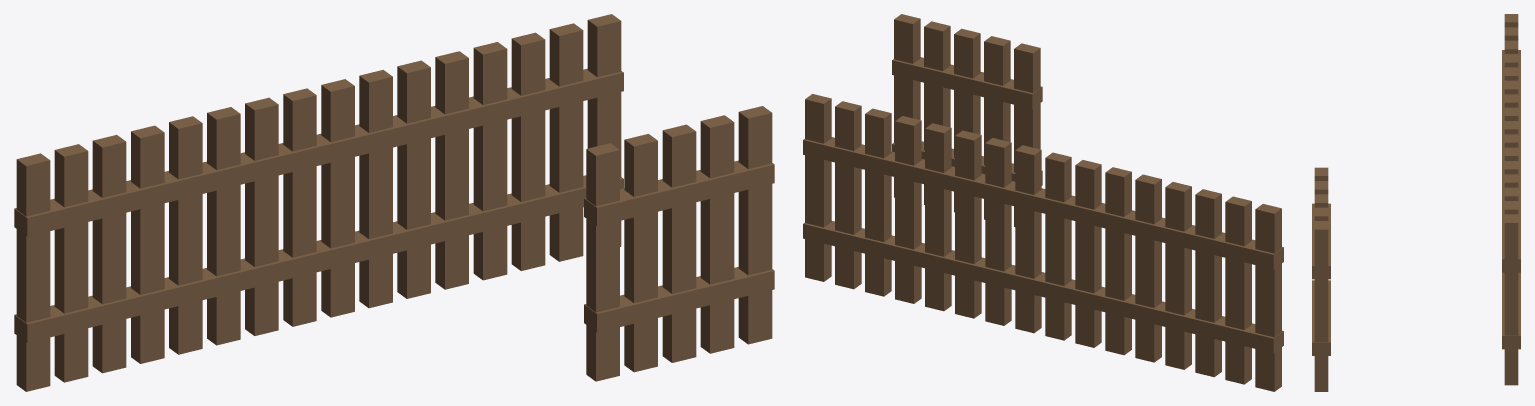
3 renders of one model, left to right at view 1: azimuth 30°, elevation 25°; view 2: azimuth 150°, elevation 25°; view 3: azimuth 270°, elevation 25°, orthographic. The views are drawn at different scales.
Parts seen in each view (by area): view 1: climb-fence-1-17, climb-fence-1-16, climb-fence-1-0, climb-fence-1-14, climb-fence-1-21, climb-fence-1-1, climb-fence-1-12, climb-fence-1-20, climb-fence-1-13, climb-fence-1-22, climb-fence-1-2, climb-fence-1-18 (+13 smaller); view 2: climb-fence-1-16, climb-fence-1-17, climb-fence-1-0, climb-fence-1-5, climb-fence-1-1, climb-fence-1-4, climb-fence-1-8, climb-fence-1-2, climb-fence-1-12, climb-fence-1-15, climb-fence-1-11, climb-fence-1-3 (+12 smaller); view 3: climb-fence-1-15, climb-fence-1-22, climb-fence-1-17, climb-fence-1-16, climb-fence-1-24, climb-fence-1-23, climb-fence-1-5, climb-fence-1-1, climb-fence-1-4, climb-fence-1-6, climb-fence-1-9, climb-fence-1-12 (+13 smaller).
Boxes of the visible parts, x1,y1,x2,y2 form: climb-fence-1-17: (14,68,623,236); climb-fence-1-16: (14,175,623,342); climb-fence-1-0: (16,153,50,391); climb-fence-1-14: (549,23,583,261); climb-fence-1-21: (700,115,734,353); climb-fence-1-1: (54,144,88,382); climb-fence-1-12: (473,42,507,280); climb-fence-1-20: (662,124,696,362); climb-fence-1-13: (511,32,545,270); climb-fence-1-22: (738,106,772,344); climb-fence-1-2: (92,135,126,373); climb-fence-1-18: (586,143,619,381); climb-fence-1-16: (803,221,1283,353); climb-fence-1-17: (803,137,1283,269); climb-fence-1-0: (1255,204,1281,391); climb-fence-1-5: (1105,167,1131,355); climb-fence-1-1: (1225,196,1251,384); climb-fence-1-4: (1135,174,1161,362); climb-fence-1-8: (1015,145,1041,333); climb-fence-1-2: (1195,189,1221,377); climb-fence-1-12: (895,116,921,303); climb-fence-1-15: (805,94,831,281); climb-fence-1-11: (925,123,951,311); climb-fence-1-3: (1165,182,1191,369); climb-fence-1-15: (1504,214,1518,385); climb-fence-1-22: (1314,221,1328,391); climb-fence-1-17: (1502,50,1520,272); climb-fence-1-16: (1502,272,1520,349); climb-fence-1-24: (1312,203,1330,279); climb-fence-1-23: (1312,280,1330,355); climb-fence-1-5: (1504,80,1518,94); climb-fence-1-1: (1504,27,1518,40); climb-fence-1-4: (1504,67,1518,80); climb-fence-1-6: (1504,94,1518,107); climb-fence-1-9: (1504,134,1518,147); climb-fence-1-12: (1504,174,1518,187).
Size of the model in its own units: 4.85 by 1.7 by 1.98.
